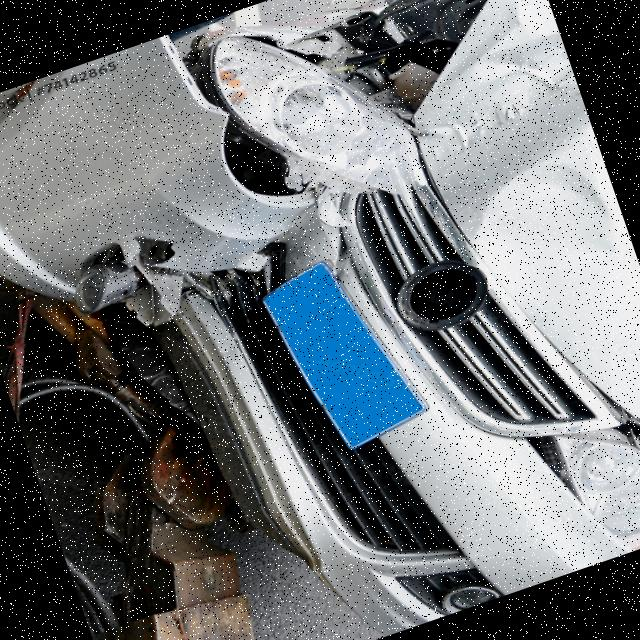Dent: (384, 0, 605, 253)
Head Light: (173, 0, 400, 234)
